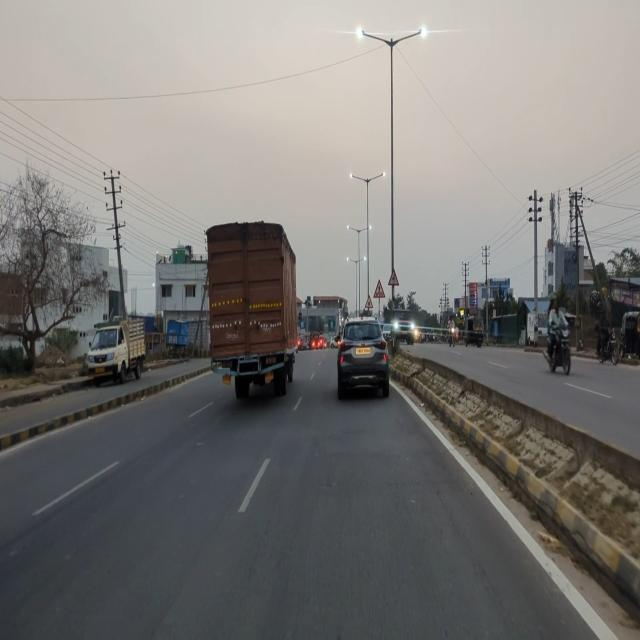bien_cam: (387, 267, 399, 286), (374, 279, 386, 298), (364, 295, 374, 309)
